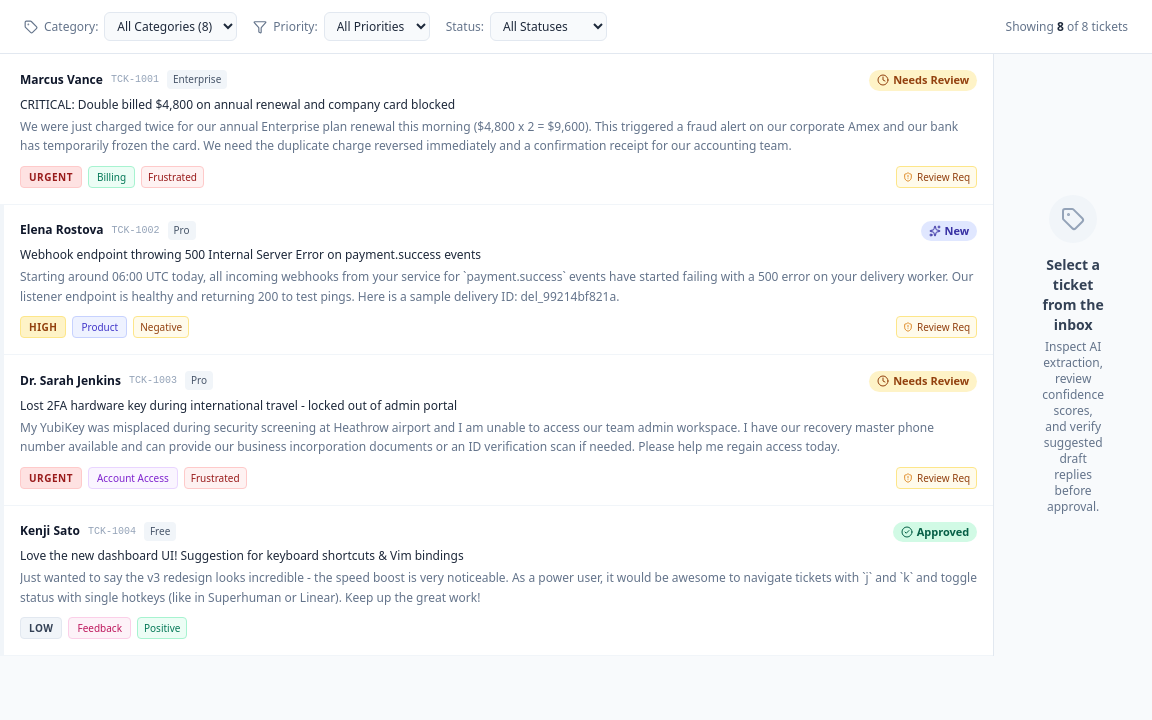
Test: InboxView Component & Human-in-the-Loop Workflow › filters tickets when category dropdown changes
This screenshot has width=1152, height=720.
Select "Billing" in the dropdown next to "Category:" at (171, 26), box [104, 12, 237, 41]
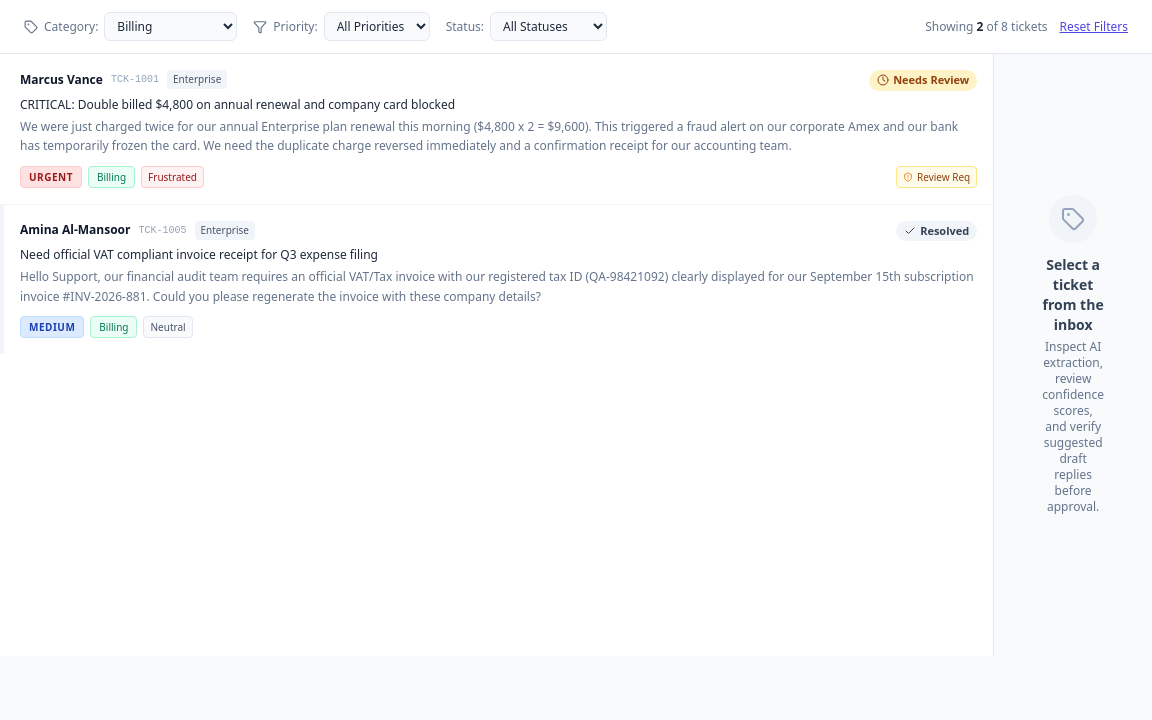
Check: the text "Marcus Vance" is shown, box [20, 72, 103, 88]
Check: the text "Amina Al-Mansoor" is shown, box [20, 222, 130, 238]
Check: the text "Elena Rostova" is gone
